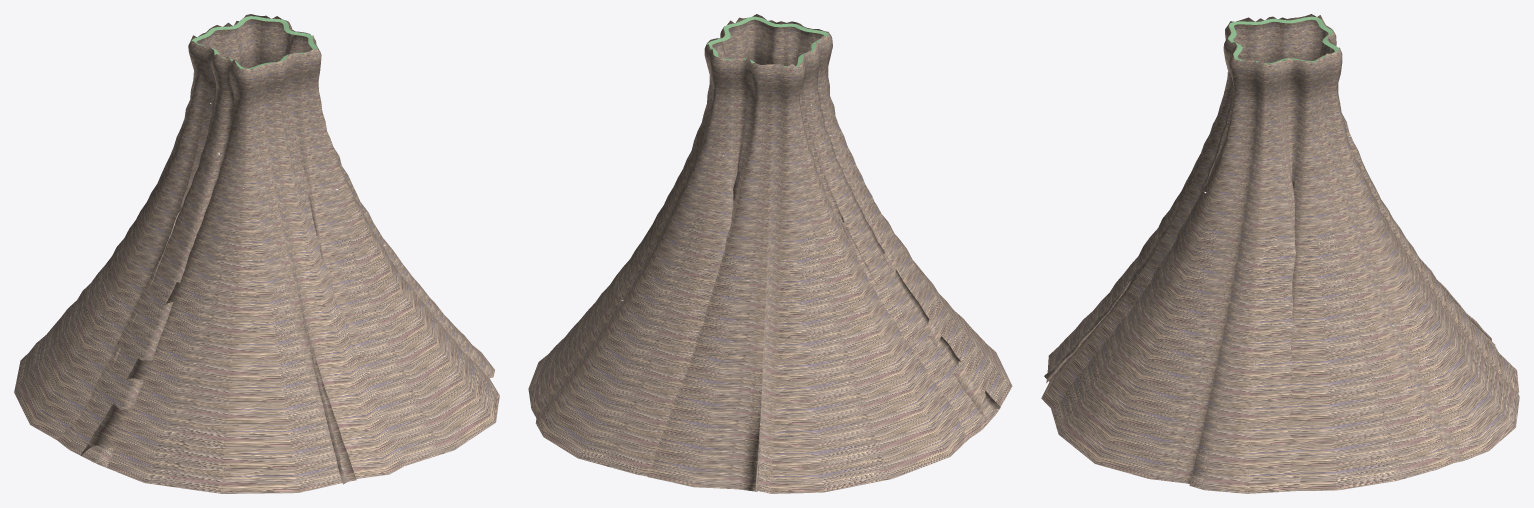
File: CliffWall_stack_09.glb
3 views of the same model, side by side, from view 1: azimuth 30°, elevation 25°; view 2: azimuth 150°, elevation 25°; view 3: azimuth 270°, elevation 25° (orthographic).
Visible parts, largest first — view 1: CliffWall_stack_09-rock0, CliffWall_stack_09-lip0; view 2: CliffWall_stack_09-rock0, CliffWall_stack_09-lip0; view 3: CliffWall_stack_09-rock0, CliffWall_stack_09-lip0.
Boxes of the visible parts, left/top/right/bottom form: CliffWall_stack_09-rock0: left=14, top=14, right=499, bottom=493; CliffWall_stack_09-lip0: left=191, top=16, right=317, bottom=69; CliffWall_stack_09-rock0: left=528, top=14, right=1012, bottom=493; CliffWall_stack_09-lip0: left=707, top=16, right=828, bottom=67; CliffWall_stack_09-rock0: left=1041, top=14, right=1519, bottom=493; CliffWall_stack_09-lip0: left=1228, top=16, right=1339, bottom=64.
Bounding box in the file's own units: 792 × 646 × 788.
4 materials, 1 textured.
